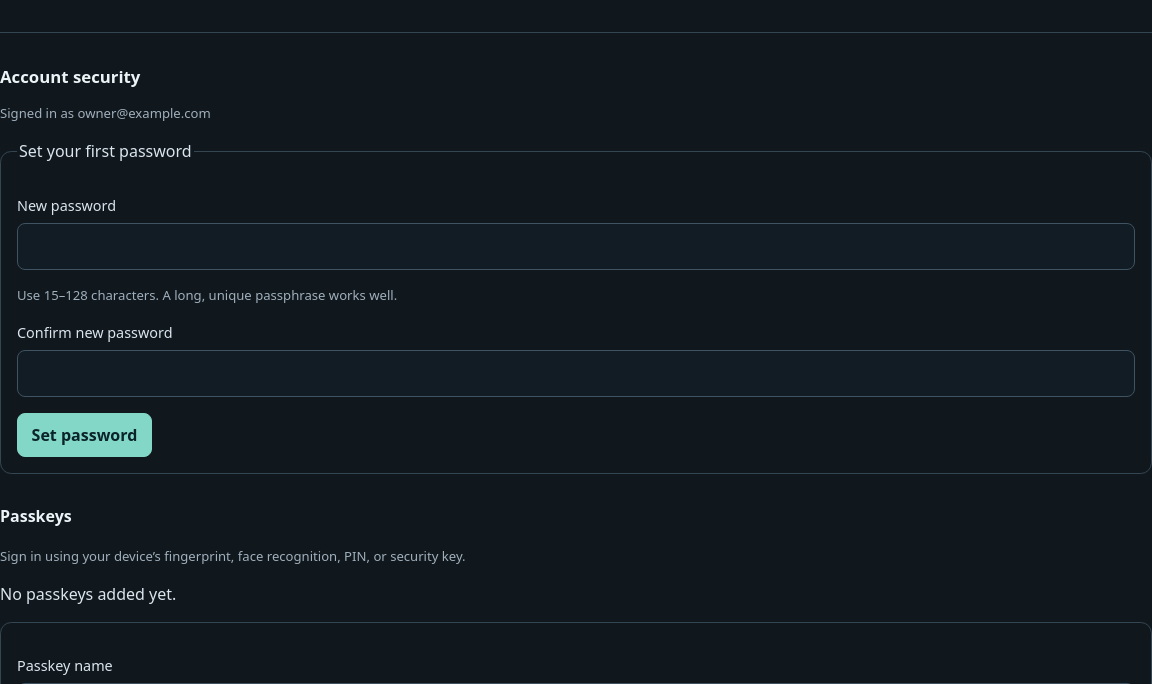
Test: account security › reports a saved password even if the following settings refresh fails
Type "a long private passphrase" into the password field labelled "New password".
click(576, 247); type("a long private passphrase")  # box x1=17 y1=223 x2=1135 y2=270
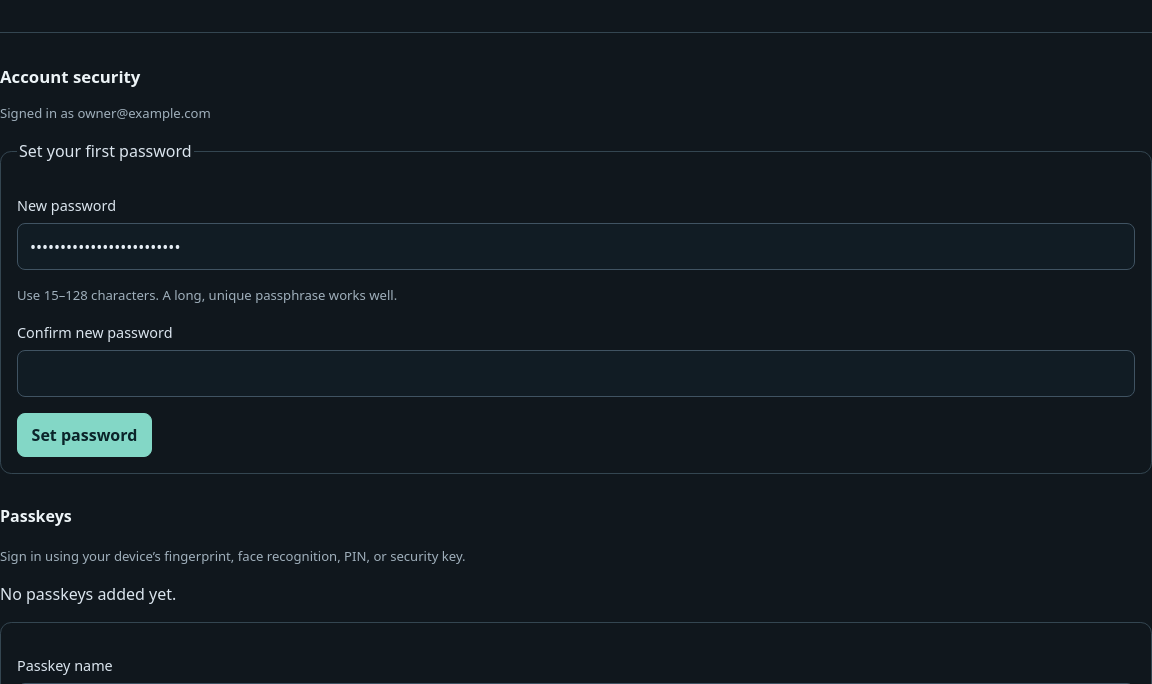
Type "a long private passphrase" into the password field labelled "Confirm new password".
click(576, 373); type("a long private passphrase")  # box x1=17 y1=350 x2=1135 y2=396
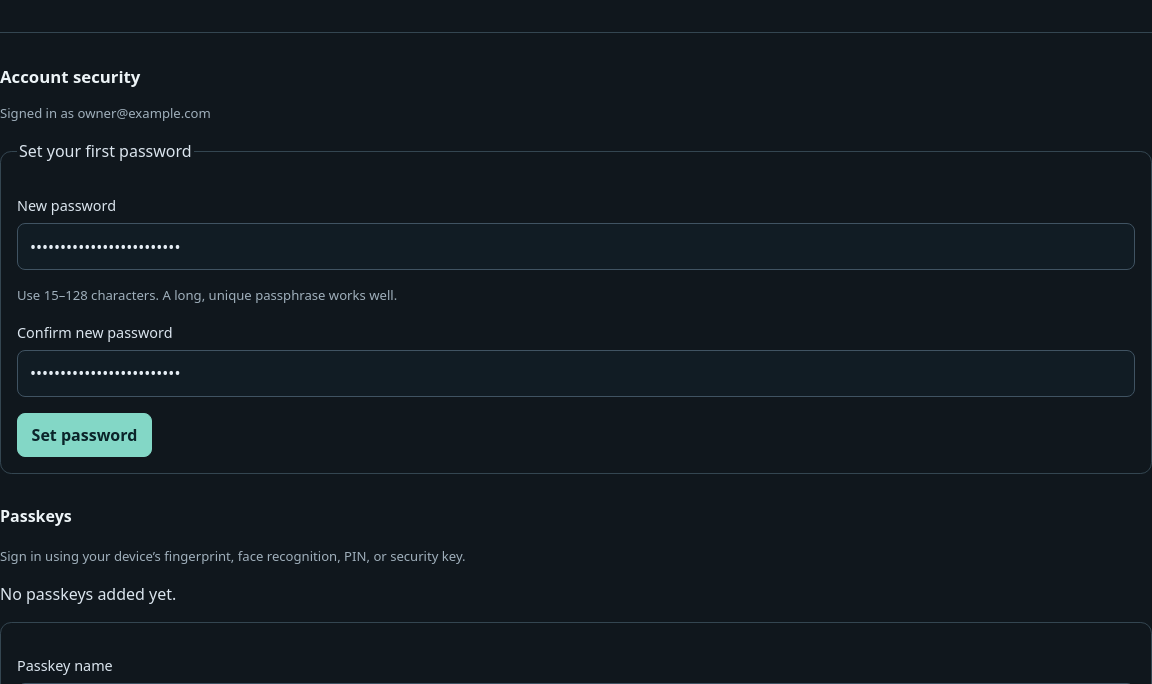
Click the button "Set password".
click(84, 434)  # box x1=17 y1=412 x2=152 y2=456
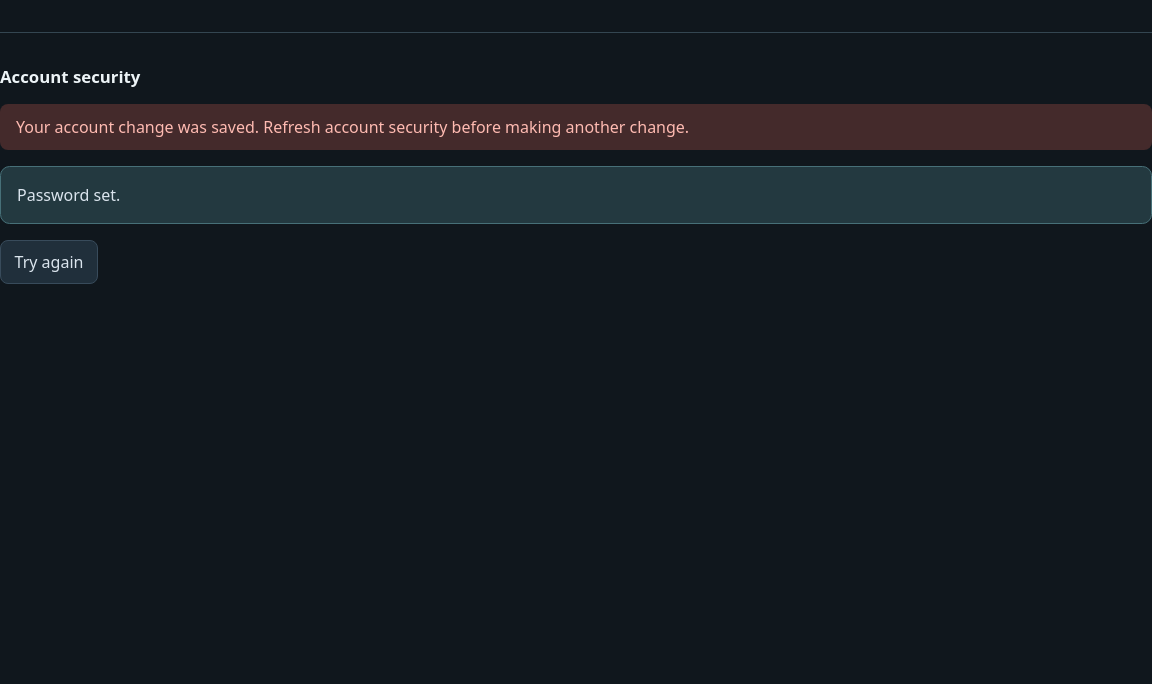
Result: the message "Password set." is shown at x1=0 y1=166 x2=1151 y2=224
Result: the label labelled "New password" is gone
Result: the button "Try again" is shown at x1=0 y1=240 x2=98 y2=284
